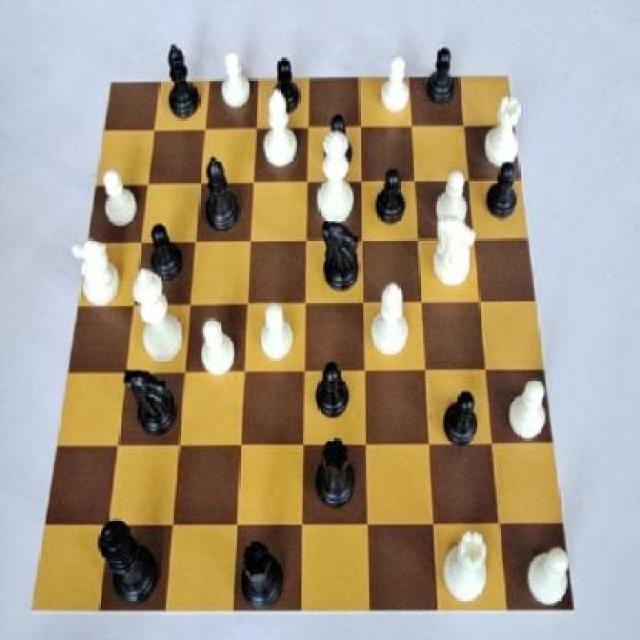bishop: (202, 151, 246, 243), (162, 41, 202, 120)
black-bishop: (95, 511, 164, 614)
black-king: (125, 363, 182, 449), (316, 214, 366, 303)
black-knight: (438, 383, 488, 458), (315, 94, 358, 174), (144, 217, 186, 291), (423, 34, 461, 114), (311, 356, 354, 424), (263, 50, 304, 119), (484, 155, 524, 221), (372, 164, 413, 228)
black-queen: (236, 539, 288, 616), (316, 428, 356, 513)
black-rook: (366, 274, 411, 365), (263, 91, 305, 172)
white-bishop: (129, 262, 188, 368)
white-king: (64, 232, 126, 311), (431, 216, 480, 296)
white-knight: (506, 374, 556, 453), (523, 538, 575, 610), (197, 309, 241, 384), (255, 294, 297, 371), (97, 168, 141, 235), (214, 45, 253, 120), (375, 46, 413, 122), (437, 169, 473, 239)
white-pawn: (314, 131, 356, 231)
white-queen: (434, 523, 498, 608), (481, 91, 524, 173)
